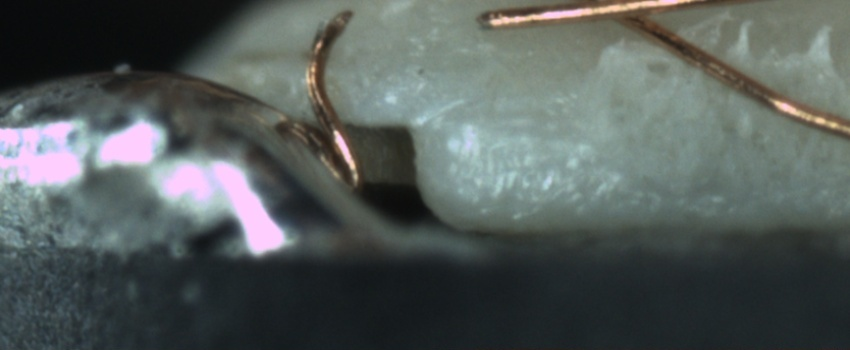CL: (567, 0, 690, 37)
DL: (435, 99, 555, 147)
